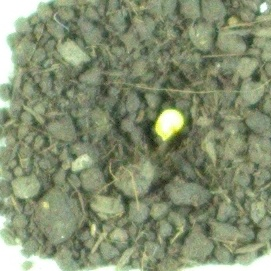pepper seed: (61, 36, 247, 180)
